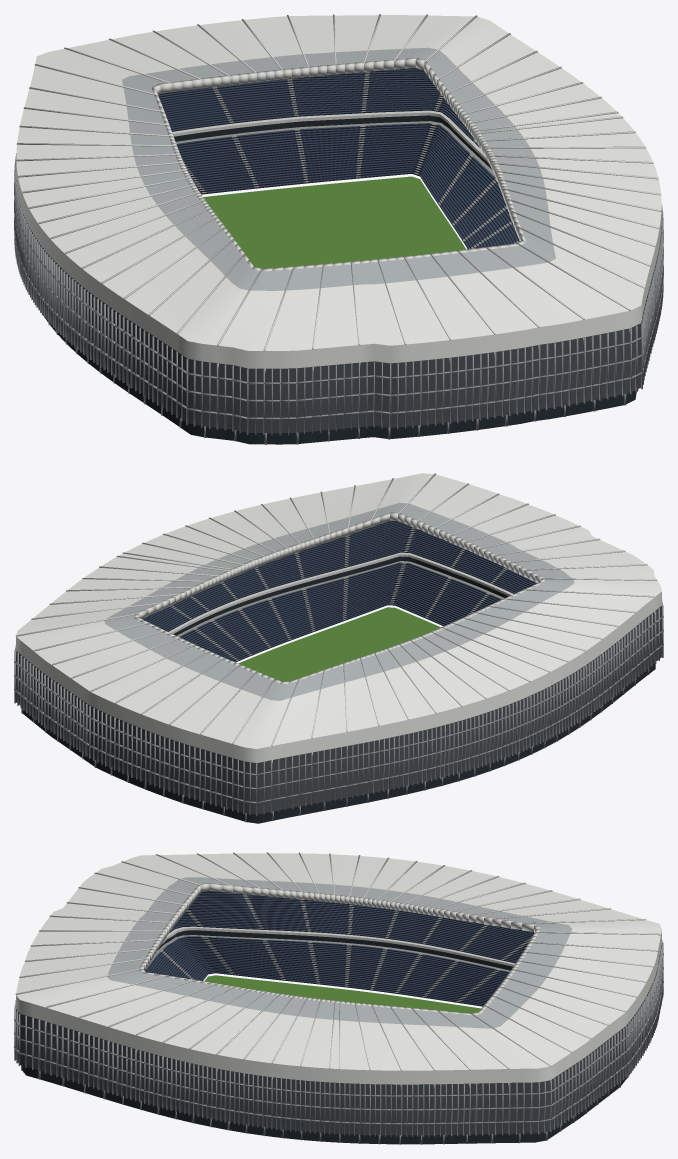
File: allianz.glb
3 renders of one model, top to bottom at view 1: azimuth 30°, elevation 25°; view 2: azimuth 150°, elevation 25°; view 3: azimuth 270°, elevation 25°, orthographic. The views are drawn at different scales.
Visible parts, largest first — view 1: allianz_roof_19, allianz_wall_0, allianz_fin_4, allianz_clear_20, allianz_pitch_24, allianz_seats_7, allianz_rib_5, allianz_riser_9, allianz_roof_21, allianz_riser_18, allianz_seats_16, allianz_rib_3 (+6 smaller); view 2: allianz_roof_19, allianz_wall_0, allianz_fin_4, allianz_clear_20, allianz_riser_9, allianz_rib_5, allianz_seats_7, allianz_roof_21, allianz_seats_16, allianz_riser_18, allianz_pitch_24, allianz_rib_3 (+7 smaller); view 3: allianz_roof_19, allianz_wall_0, allianz_fin_4, allianz_clear_20, allianz_riser_9, allianz_seats_7, allianz_rib_5, allianz_riser_18, allianz_roof_21, allianz_seats_16, allianz_glass_1, allianz_rib_3 (+7 smaller).
Part boxes in pixels (box(x1,y1,x2,y2)): allianz_roof_19: box(16, 15, 661, 350); allianz_wall_0: box(16, 180, 661, 433); allianz_fin_4: box(14, 153, 663, 444); allianz_clear_20: box(122, 47, 555, 290); allianz_pitch_24: box(203, 176, 465, 268); allianz_seats_7: box(176, 123, 518, 248); allianz_rib_5: box(16, 14, 661, 350); allianz_riser_9: box(177, 124, 519, 249); allianz_roof_21: box(16, 162, 661, 368); allianz_riser_18: box(159, 68, 479, 147); allianz_seats_16: box(158, 68, 477, 144); allianz_rib_3: box(18, 58, 629, 373); allianz_roof_19: box(16, 473, 661, 748); allianz_wall_0: box(16, 606, 661, 814); allianz_fin_4: box(14, 600, 663, 822); allianz_clear_20: box(104, 503, 574, 700); allianz_riser_9: box(181, 563, 500, 662); allianz_rib_5: box(15, 473, 657, 746); allianz_seats_7: box(179, 562, 501, 661); allianz_roof_21: box(16, 592, 661, 762); allianz_seats_16: box(142, 520, 537, 631); allianz_riser_18: box(142, 520, 535, 631); allianz_pitch_24: box(238, 607, 440, 681); allianz_rib_3: box(16, 512, 654, 763); allianz_roof_19: box(16, 853, 661, 1070); allianz_wall_0: box(16, 945, 661, 1135); allianz_fin_4: box(14, 940, 663, 1144); allianz_clear_20: box(107, 877, 572, 1028); allianz_riser_9: box(146, 937, 508, 1006); allianz_seats_7: box(145, 936, 509, 1005); allianz_rib_5: box(15, 852, 660, 1070); allianz_riser_18: box(169, 890, 533, 963); allianz_roof_21: box(16, 931, 661, 1084); allianz_seats_16: box(170, 891, 534, 962); allianz_glass_1: box(22, 927, 633, 1144); allianz_rib_3: box(46, 883, 661, 1087).
Bounding box in the file's own units: 203 × 38.85 × 255.
